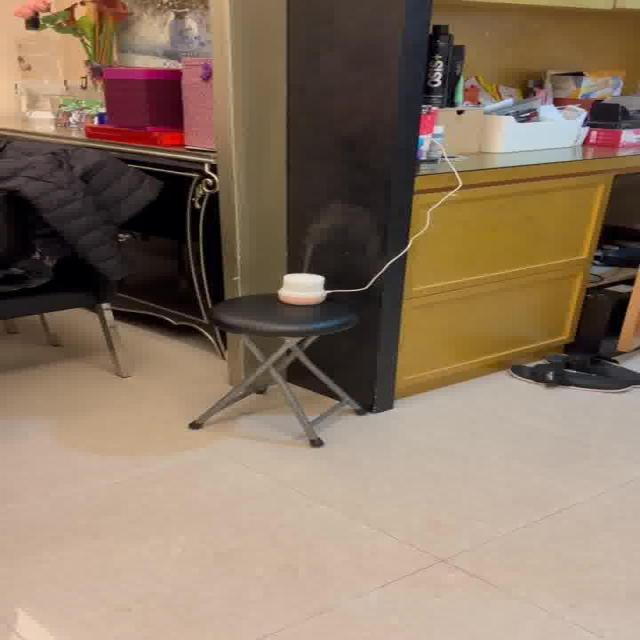fire: (301, 208, 374, 266)
